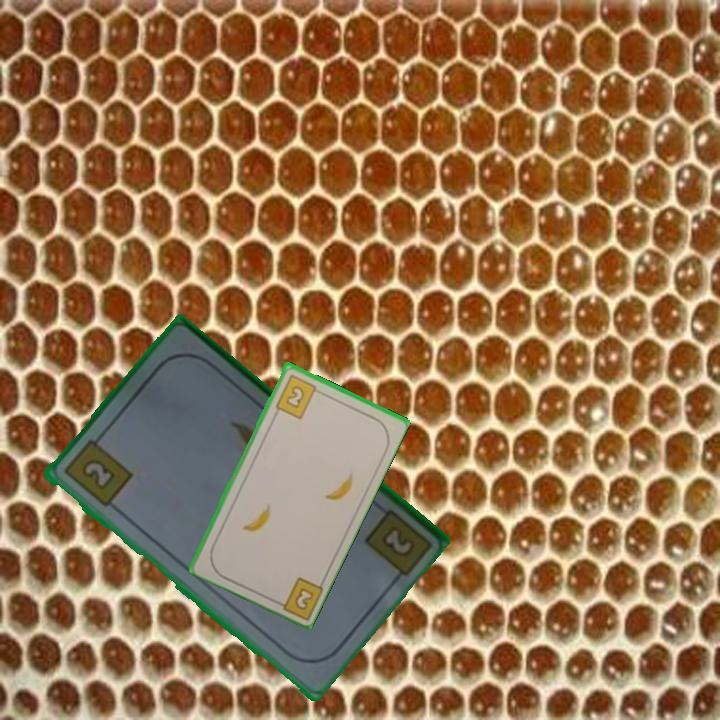2b: (59, 431, 135, 510), (271, 371, 323, 421), (270, 573, 325, 620), (377, 522, 414, 557)
